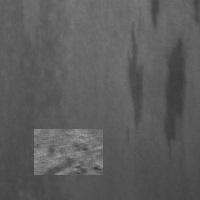inclusion: (161, 34, 190, 151), (121, 20, 145, 131), (147, 1, 164, 30)
rolled-in_scale: (34, 129, 103, 175)
